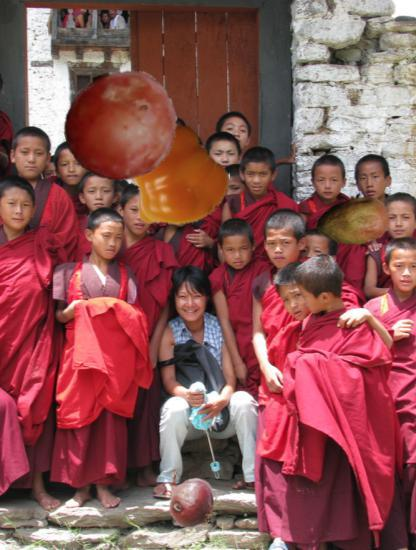Grape: (64, 69, 178, 183)
Onion: (161, 473, 217, 529)
Papaya: (315, 183, 391, 259)
Pepper: (125, 123, 230, 228)
